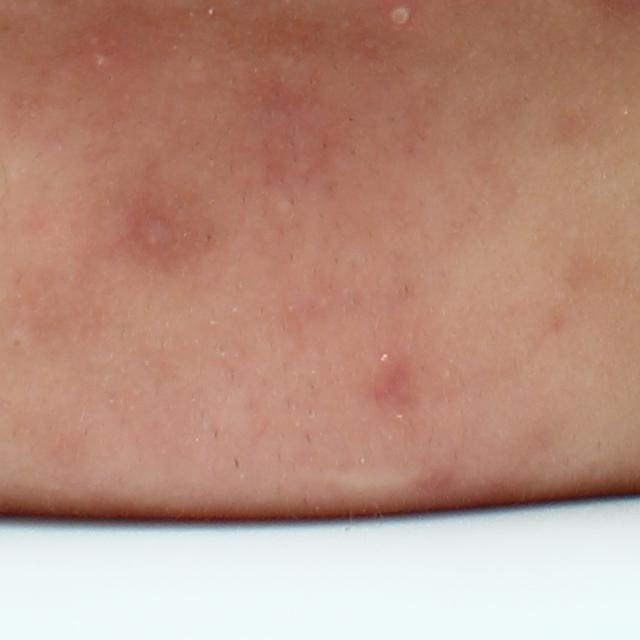comedo: (8, 333, 28, 353)
pustule: (87, 48, 110, 73)
